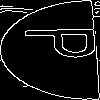P: (24, 25, 100, 60)
